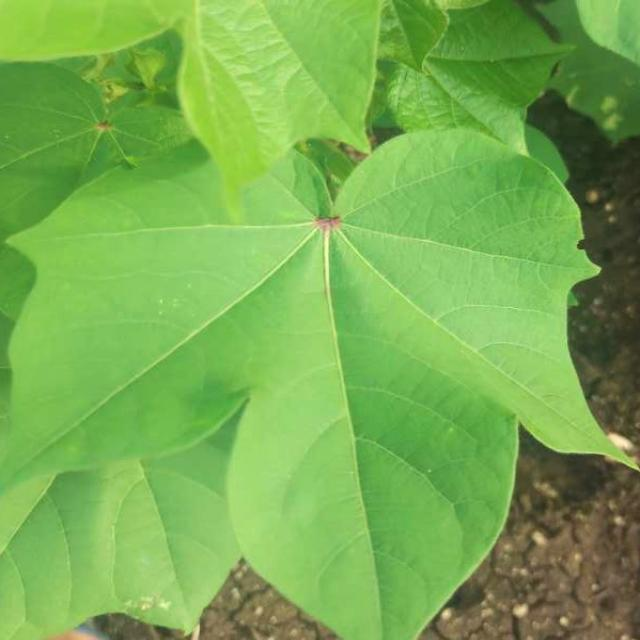Healthy Leaf: (1, 5, 607, 616)
